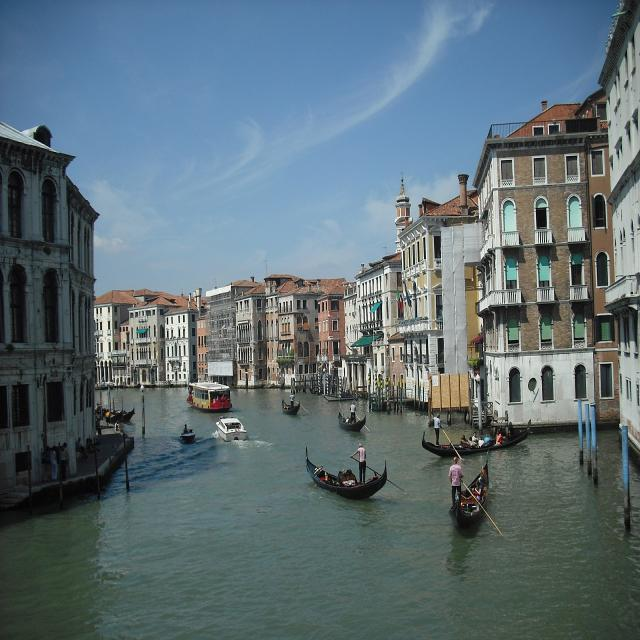boat: (298, 436, 393, 511), (423, 406, 545, 461), (444, 449, 500, 552), (335, 396, 371, 445)
